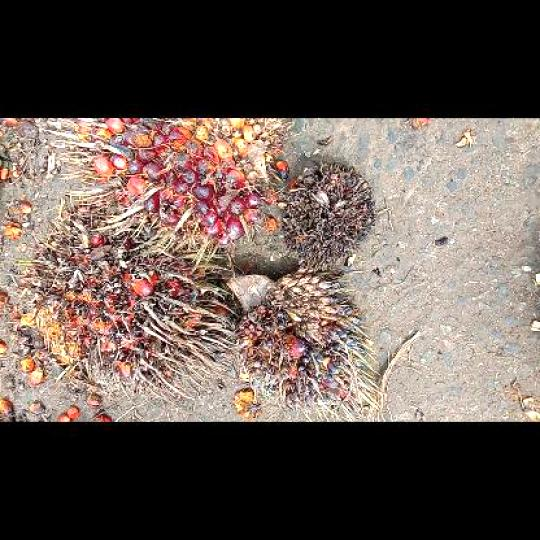masak: (37, 118, 285, 248)
terlalu masak: (17, 203, 240, 397)
